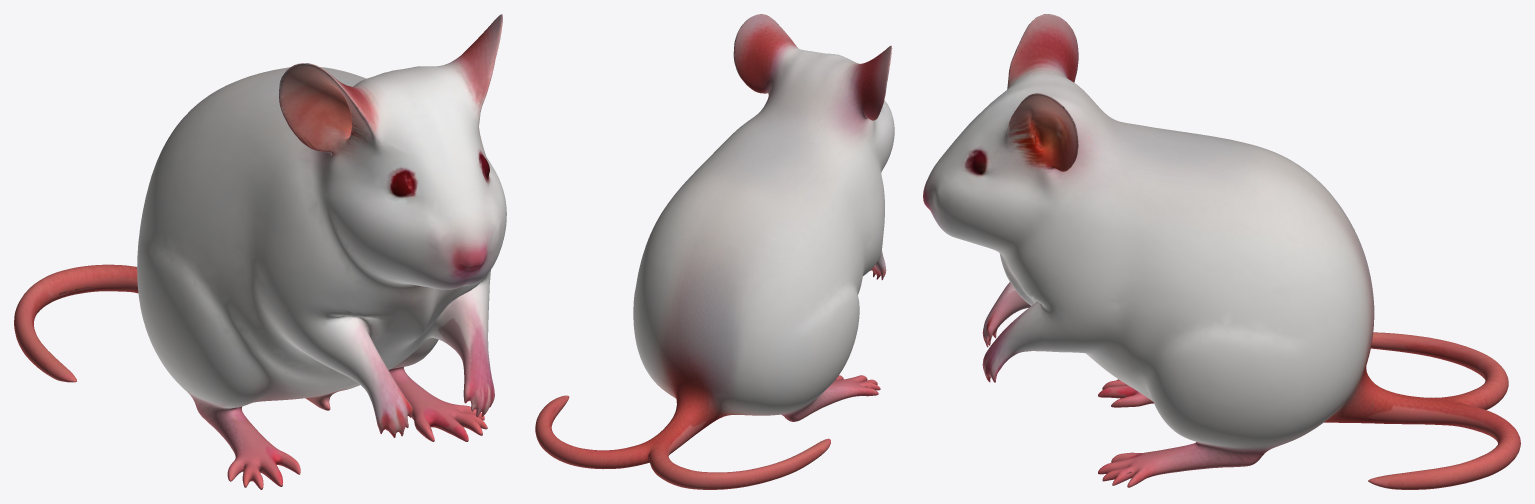
Rendered from vet_animal_mouse.glb.
The picture shows the model from 3 angles, left to right: view 1: azimuth 30°, elevation 25°; view 2: azimuth 150°, elevation 25°; view 3: azimuth 270°, elevation 25°; orthographic projection. The views are drawn at different scales.
Visible parts, largest first — view 1: model; view 2: model; view 3: model.
Boxes of the visible parts, x1,y1,x2,y2 form: model: [14, 14, 506, 489]; model: [535, 14, 894, 489]; model: [923, 14, 1520, 489].
Size of the model in its own units: 1.12 by 1.33 by 1.89.
1 material, 1 textured.
